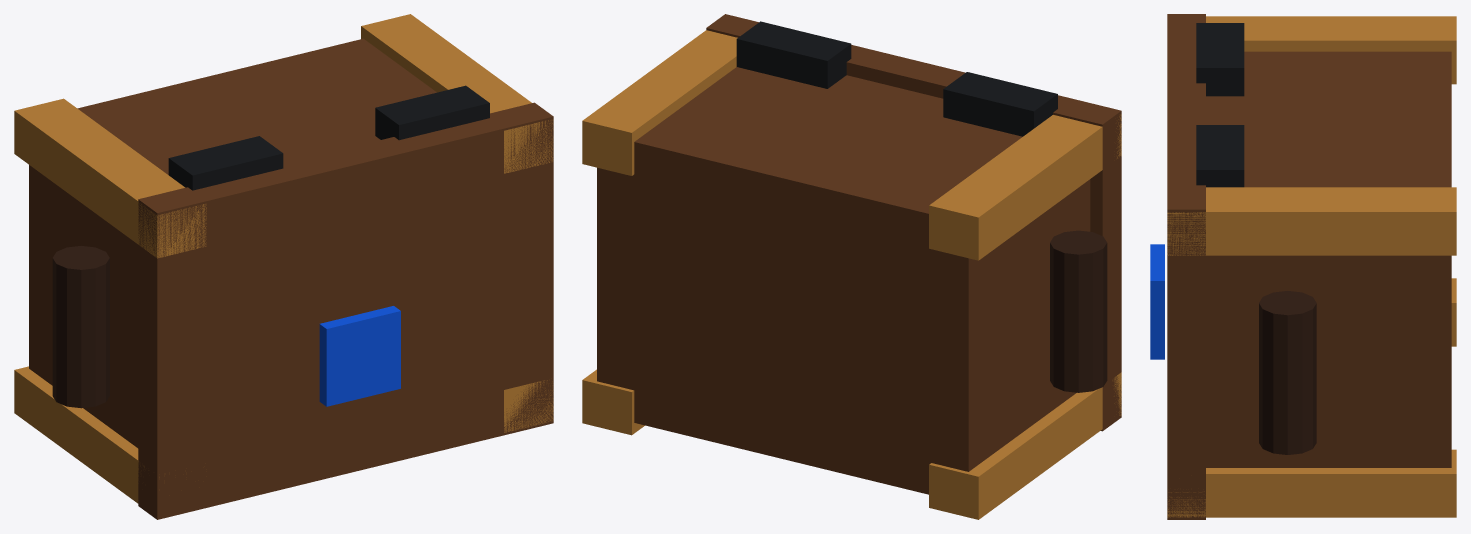
Rendered from SM_MKG_WorkshopPropCrate_A01.fbx.
The picture shows the model from 3 angles, left to right: view 1: azimuth 30°, elevation 25°; view 2: azimuth 150°, elevation 25°; view 3: azimuth 270°, elevation 25°; orthographic projection.
Parts seen in each view (by area): view 1: Lid_Lip, Body_Box, Corner_Brass_-42_30, Handle_Left, Corner_Brass_42_30, AetheriumMark_Top, Corner_Brass_-42_-30, Hinge_Back_Right, Hinge_Back_Left, Corner_Brass_42_-30; view 2: Body_Box, Corner_Brass_-42_30, Lid_Lip, Corner_Brass_42_30, Corner_Brass_-42_-30, Handle_Left, Hinge_Back_Right, Hinge_Back_Left, Corner_Brass_42_-30; view 3: Body_Box, Corner_Brass_42_30, Lid_Lip, Corner_Brass_42_-30, Handle_Right, Corner_Brass_-42_30, Hinge_Back_Left, Hinge_Back_Right, AetheriumMark_Top, Corner_Brass_-42_-30.
Boxes of the visible parts, x1,y1,x2,y2 form: Lid_Lip: [138, 102, 553, 519]; Body_Box: [29, 38, 436, 448]; Corner_Brass_-42_30: [14, 98, 206, 258]; Handle_Left: [52, 246, 109, 408]; Corner_Brass_42_30: [361, 14, 553, 173]; AetheriumMark_Top: [319, 306, 400, 406]; Corner_Brass_-42_-30: [14, 366, 159, 503]; Hinge_Back_Right: [375, 85, 489, 140]; Hinge_Back_Left: [168, 136, 283, 190]; Corner_Brass_42_-30: [504, 380, 553, 432]; Body_Box: [597, 67, 1090, 494]; Corner_Brass_-42_30: [929, 114, 1121, 260]; Lid_Lip: [706, 14, 1121, 431]; Corner_Brass_42_30: [582, 30, 737, 175]; Corner_Brass_-42_-30: [929, 372, 1121, 519]; Handle_Left: [1050, 230, 1107, 392]; Hinge_Back_Right: [736, 21, 851, 88]; Hinge_Back_Left: [943, 72, 1057, 136]; Corner_Brass_42_-30: [582, 369, 644, 435]; Body_Box: [1206, 51, 1451, 467]; Corner_Brass_42_30: [1167, 187, 1456, 255]; Lid_Lip: [1167, 14, 1205, 519]; Corner_Brass_42_-30: [1167, 449, 1456, 517]; Handle_Right: [1259, 291, 1316, 454]; Corner_Brass_-42_30: [1206, 16, 1456, 84]; Hinge_Back_Left: [1196, 23, 1244, 96]; Hinge_Back_Right: [1196, 125, 1244, 187]; AetheriumMark_Top: [1150, 244, 1164, 359]; Corner_Brass_-42_-30: [1451, 278, 1456, 346].
Size of what is drawn, in the model's own units: 116 by 78 by 63.5.
